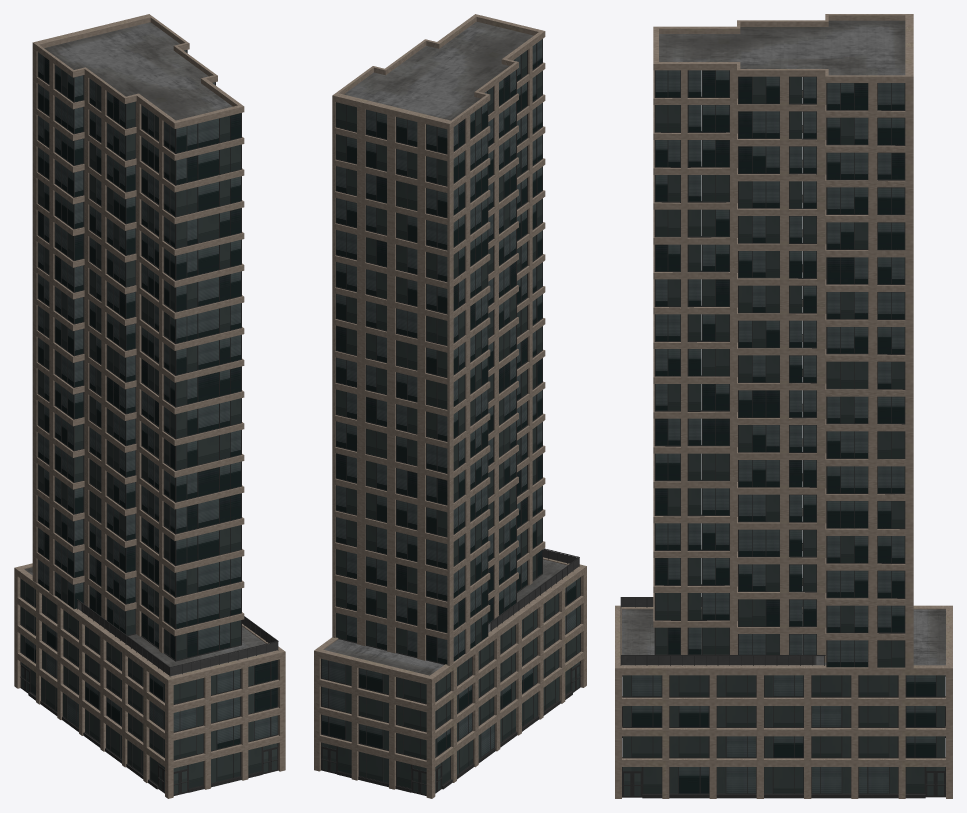
The model's file is sky-4.glb.
3 views of the same model, side by side, from view 1: azimuth 30°, elevation 25°; view 2: azimuth 150°, elevation 25°; view 3: azimuth 270°, elevation 25° (orthographic). The views are drawn at different scales.
Parts seen in each view (by area): view 1: Skyscraper_4; view 2: Skyscraper_4; view 3: Skyscraper_4.
Boxes of the visible parts, left/top/right/bottom form: Skyscraper_4: left=14, top=14, right=285, bottom=798; Skyscraper_4: left=314, top=14, right=586, bottom=798; Skyscraper_4: left=615, top=14, right=952, bottom=798.
Bounding box in the file's own units: 12.6 × 67.44 × 28.6.
1 material, 1 textured.
